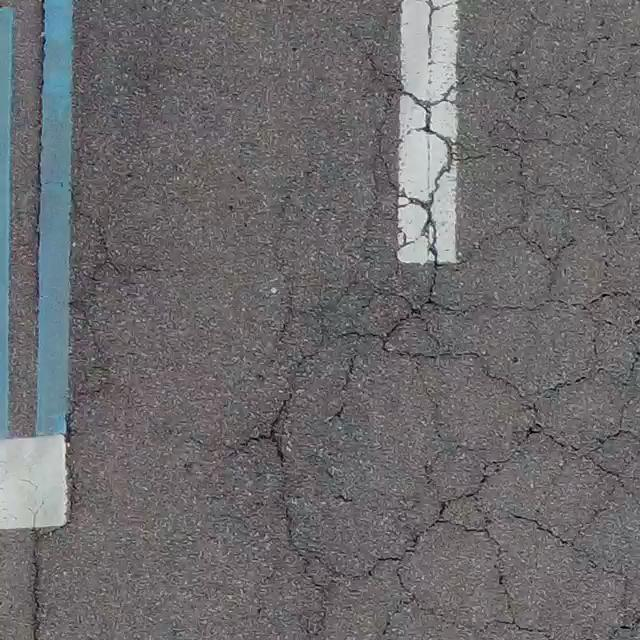GRIETA: (30, 407, 78, 639)
PIEL DE COCODRILO: (229, 0, 639, 639), (57, 188, 129, 402)
